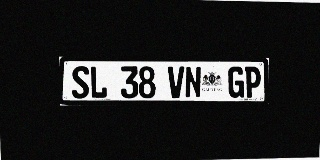3: (121, 66, 138, 98)
8: (139, 66, 155, 98)
G: (228, 67, 244, 98)
L: (90, 66, 107, 98)
N: (185, 66, 201, 98)
P: (244, 67, 261, 98)
S: (71, 66, 89, 99)
V: (168, 66, 184, 98)
